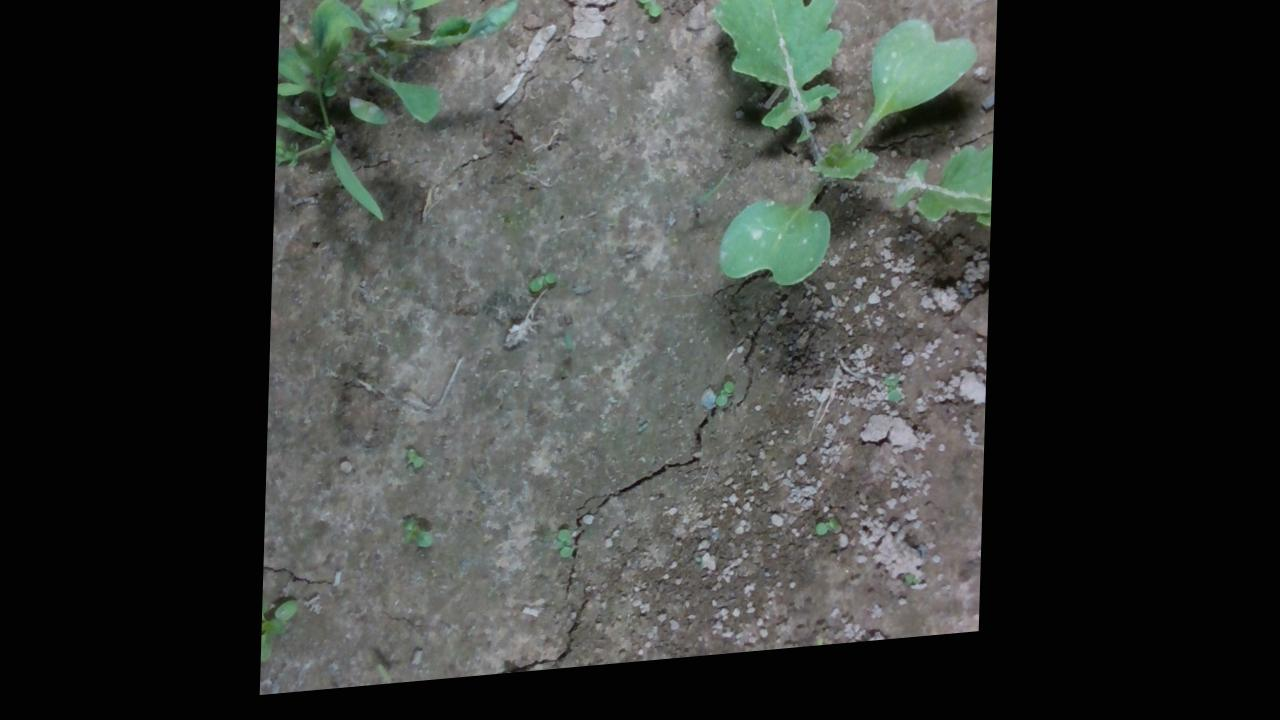weed: (518, 275, 565, 313), (710, 391, 742, 431), (553, 535, 584, 574), (813, 529, 849, 554), (407, 453, 430, 485)
